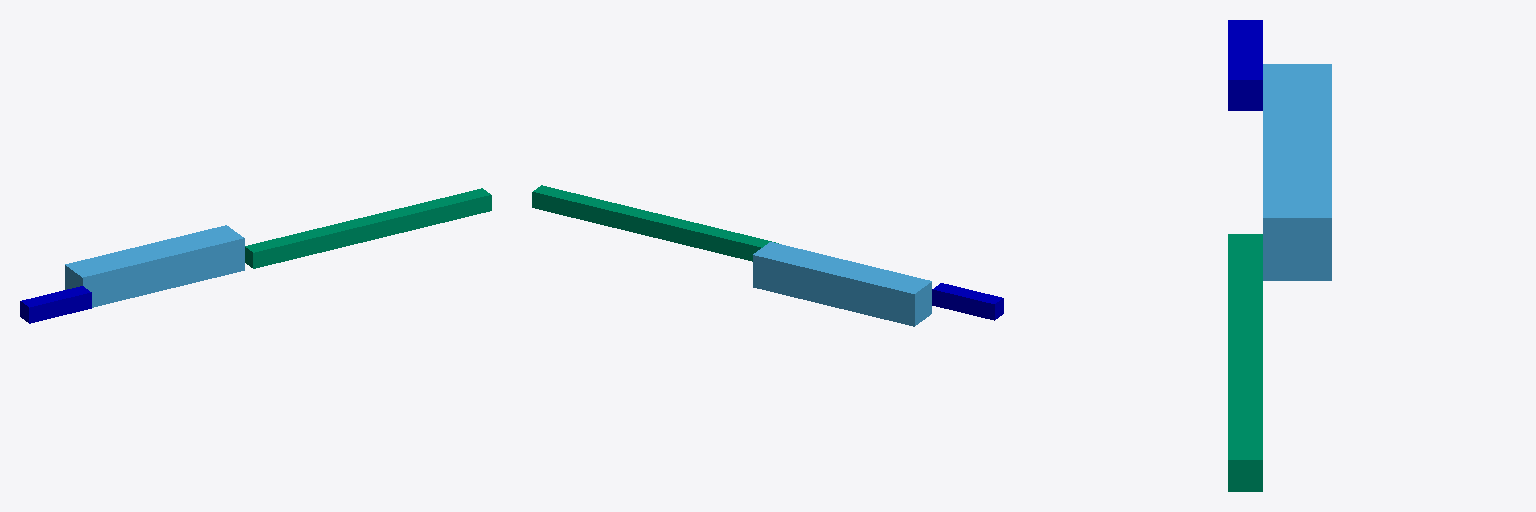
URDF robot description (gripperarm):
<?xml version="1.0"?>
<robot name="gripperarm">

  <material name="blue">
    <color rgba="0 0 0.8 1"/>
  </material>

  <link name="base_link">
    <visual>
      <geometry>
        <box size="40 10 10"/>
      </geometry>
      <origin xyz="20 5 5"/>
      <material name="blue"/>
    </visual>
  </link>

  <link name="first_link">
    <visual>
      <geometry>
        <box size="104.3 20 20"/>
      </geometry>
      <origin xyz="52.15 10 0"/>
    </visual>
  </link>

  <joint name="base_to_first_link" type="revolute">
    <axis xyz="0 1 0"/>
    <limit effort="1000.0" lower="-0.548" upper="0.548" velocity="0.5"/>
    <parent link="base_link"/>
    <child link="first_link"/>
    <origin xyz="40 10 5"/>
  </joint>

  <link name="second_link">
    <visual>
      <geometry>
        <box size="153.3 10 10"/>
      </geometry>
      <origin xyz="76.65 10 0"/>
    </visual>
  </link>

  <joint name="first_to_second_link" type="revolute">
    <axis xyz="0 1 0"/>
    <limit effort="1000.0" lower="-0.548" upper="0.548" velocity="0.5"/>
    <parent link="first_link"/>
    <child link="second_link"/>
    <origin xyz="104.3 -15 0"/>
  </joint>


</robot>

--- What the picture shows (computed from the rendered views, not written in the file) ---
Views: 3 orthographic renders of the robot side by side, from view 1: azimuth 30°, elevation 25°; view 2: azimuth 150°, elevation 25°; view 3: azimuth 270°, elevation 25°.
Robot: gripperarm — 3 links, 2 joints (2 revolute); root link base_link; default pose: every joint at zero.
Links seen in each view (by area): view 1: first_link, second_link, base_link; view 2: first_link, second_link, base_link; view 3: first_link, second_link, base_link.
Link boxes in pixels (bbox=[...]): first_link: bbox=[65, 225, 244, 307]; second_link: bbox=[245, 188, 491, 268]; base_link: bbox=[20, 286, 91, 323]; first_link: bbox=[753, 242, 931, 326]; second_link: bbox=[532, 185, 778, 261]; base_link: bbox=[932, 283, 1003, 320]; first_link: bbox=[1263, 64, 1331, 280]; second_link: bbox=[1228, 234, 1262, 491]; base_link: bbox=[1228, 20, 1262, 110].
Bounding box of the posed robot: 298 × 30 × 20 m (x, y, z).
Geometry: primitives only (box / cylinder / sphere), no mesh files.